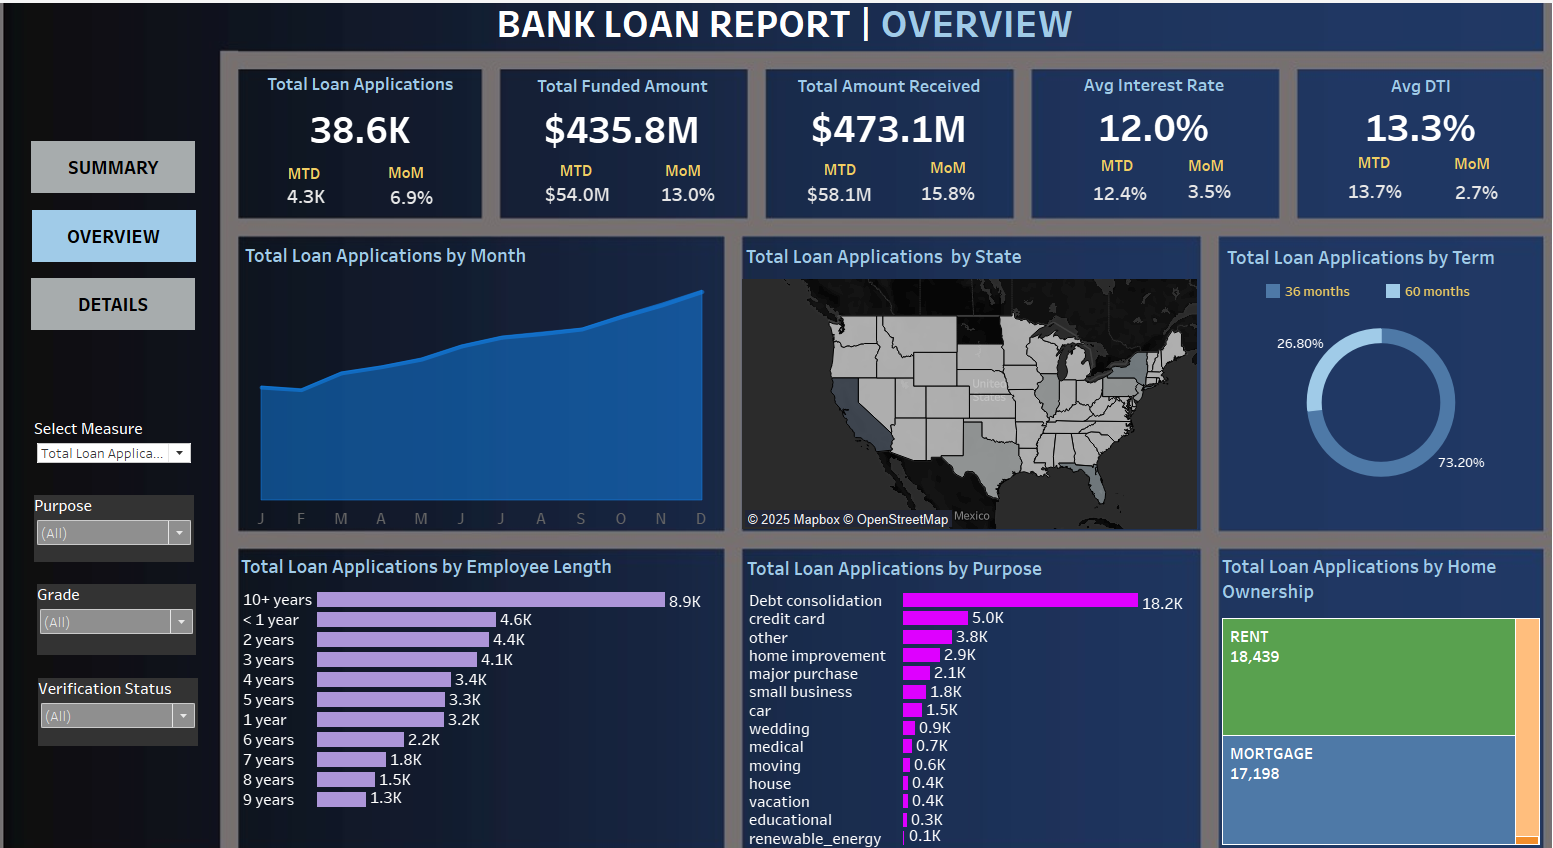

Layout of this report page (visuals, bound fields, positions):
{"tool":"tableau","page":{"name":"OVERVIEW","canvas":[1600,900],"ordinal":1},"visuals":[{"type":"image","param":"C:/Users/90591/Downloads/Tableau Background 2.jpg","box":[8,8,1584,884]},{"type":"text","box":[519,32,585,38]},{"type":"worksheet","title":"Total Loan Applications","mark":"Automatic","box":[266,96,241,84]},{"type":"worksheet","title":"Avg Interest Rate","mark":"Automatic","box":[1059,97,242,77]},{"type":"worksheet","title":"Total Funded Amount","mark":"Automatic","box":[539,98,219,79]},{"type":"worksheet","title":"Total Amount Received","mark":"Automatic","box":[801,98,228,77]},{"type":"worksheet","title":"Avg DTI","mark":"Automatic","box":[1327,98,240,76]},{"type":"dashboard-object","box":[57,170,164,52]},{"type":"text","box":[1360,181,80,21]},{"type":"text","box":[1458,182,80,21]},{"type":"text","box":[1103,184,80,21]},{"type":"text","box":[1192,184,80,21]},{"type":"text","box":[934,186,80,21]},{"type":"text","box":[826,188,80,21]},{"type":"text","box":[562,189,80,21]},{"type":"text","box":[669,189,80,21]},{"type":"text","box":[392,191,80,21]},{"type":"text","box":[290,192,80,21]},{"type":"worksheet","title":"MoM Avg Int Rate","mark":"Automatic","box":[1198,201,77,38]},{"type":"worksheet","title":"MTD Avg INT Rate","mark":"Automatic","box":[1109,203,75,38]},{"type":"worksheet","title":"MTD Avg DTI","mark":"Automatic","box":[1362,203,78,35]},{"type":"worksheet","title":"MTD Total Funded Amount","mark":"Automatic","box":[566,204,76,38]},{"type":"worksheet","title":"MoM Avg DTI","mark":"Automatic","box":[1470,204,66,35]},{"type":"worksheet","title":"MoM Total Amount Received","mark":"Automatic","box":[936,205,76,34]},{"type":"worksheet","title":"MTD Total Amount Received ","mark":"Automatic","box":[829,206,73,35]},{"type":"worksheet","title":"MoM Total Funded Amount","mark":"Automatic","box":[677,207,75,33]},{"type":"worksheet","title":"MTD Total Loan Applications","mark":"Automatic","box":[303,210,58,30]},{"type":"worksheet","title":"MoM Loan Applications","mark":"Automatic","box":[406,212,65,29]},{"type":"dashboard-object","box":[58,239,164,52]},{"type":"worksheet","title":"Month","mark":"Area","rows":["Calculation_1939081133418737704","Calculation_1939081133418737704"],"cols":["issue_date"],"box":[267,267,481,292]},{"type":"worksheet","title":"State","mark":"Multipolygon","box":[768,268,455,290]},{"type":"worksheet","title":"Term","mark":"Pie","rows":["Calculation_1939081133452079146","Calculation_1939081133452116012"],"box":[1249,269,316,285]},{"type":"dashboard-object","box":[57,307,164,52]},{"type":"legend","title":"Term","param":"[federated.05gz9zv02p1sf11ckrne60i1l87h].[none:term:nk]","box":[1289,310,264,28]},{"type":"parameter","param":"[Parameters].[Parameter 1]","box":[60,447,160,55]},{"type":"filter","title":"Avg DTI","param":"[federated.05gz9zv02p1sf11ckrne60i1l87h].[none:purpose:nk]","box":[60,524,160,67]},{"type":"worksheet","title":"Emp Length","mark":"Automatic","rows":["emp_length"],"cols":["Calculation_1939081133418737704"],"box":[263,578,485,300]},{"type":"worksheet","title":"Home Own","mark":"Automatic","box":[1244,578,325,300]},{"type":"worksheet","title":"Purpose","mark":"Automatic","rows":["purpose"],"cols":["Calculation_1939081133418737704"],"box":[769,580,456,296]},{"type":"filter","title":"Avg DTI","param":"[federated.05gz9zv02p1sf11ckrne60i1l87h].[none:grade:nk]","box":[63,613,159,71]},{"type":"filter","title":"Avg DTI","param":"[federated.05gz9zv02p1sf11ckrne60i1l87h].[none:verification_status:nk]","box":[64,707,160,68]}]}

Visuals, with their boxes on the page's 1600x900 design canvas (x1, y1, x2, y2). These are canvas units, not pixel positions in the 1553x848 screenshot, which may show the page scaled, cropped or inside an application window:
image: BBox(8, 8, 1592, 892)
text: BBox(519, 32, 1104, 70)
"Total Loan Applications" worksheet: BBox(266, 96, 507, 180)
"Avg Interest Rate" worksheet: BBox(1059, 97, 1301, 174)
"Total Funded Amount" worksheet: BBox(539, 98, 758, 177)
"Total Amount Received" worksheet: BBox(801, 98, 1029, 175)
"Avg DTI" worksheet: BBox(1327, 98, 1567, 174)
dashboard-object: BBox(57, 170, 221, 222)
text: BBox(1360, 181, 1440, 202)
text: BBox(1458, 182, 1538, 203)
text: BBox(1103, 184, 1183, 205)
text: BBox(1192, 184, 1272, 205)
text: BBox(934, 186, 1014, 207)
text: BBox(826, 188, 906, 209)
text: BBox(562, 189, 642, 210)
text: BBox(669, 189, 749, 210)
text: BBox(392, 191, 472, 212)
text: BBox(290, 192, 370, 213)
"MoM Avg Int Rate" worksheet: BBox(1198, 201, 1275, 239)
"MTD Avg INT Rate" worksheet: BBox(1109, 203, 1184, 241)
"MTD Avg DTI" worksheet: BBox(1362, 203, 1440, 238)
"MTD Total Funded Amount" worksheet: BBox(566, 204, 642, 242)
"MoM Avg DTI" worksheet: BBox(1470, 204, 1536, 239)
"MoM Total Amount Received" worksheet: BBox(936, 205, 1012, 239)
"MTD Total Amount Received " worksheet: BBox(829, 206, 902, 241)
"MoM Total Funded Amount" worksheet: BBox(677, 207, 752, 240)
"MTD Total Loan Applications" worksheet: BBox(303, 210, 361, 240)
"MoM Loan Applications" worksheet: BBox(406, 212, 471, 241)
dashboard-object: BBox(58, 239, 222, 291)
"Month" worksheet (Area marks): BBox(267, 267, 748, 559)
"State" worksheet (Multipolygon marks): BBox(768, 268, 1223, 558)
"Term" worksheet (Pie marks): BBox(1249, 269, 1565, 554)
dashboard-object: BBox(57, 307, 221, 359)
"Term" legend: BBox(1289, 310, 1553, 338)
parameter: BBox(60, 447, 220, 502)
"Avg DTI" filter: BBox(60, 524, 220, 591)
"Emp Length" worksheet: BBox(263, 578, 748, 878)
"Home Own" worksheet: BBox(1244, 578, 1569, 878)
"Purpose" worksheet: BBox(769, 580, 1225, 876)
"Avg DTI" filter: BBox(63, 613, 222, 684)
"Avg DTI" filter: BBox(64, 707, 224, 775)
